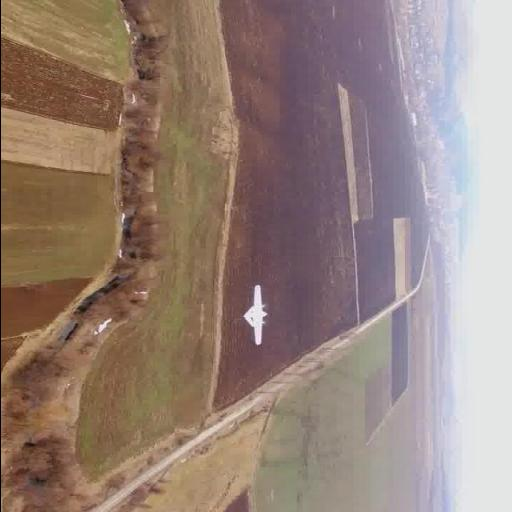uav: (236, 281, 270, 351)
